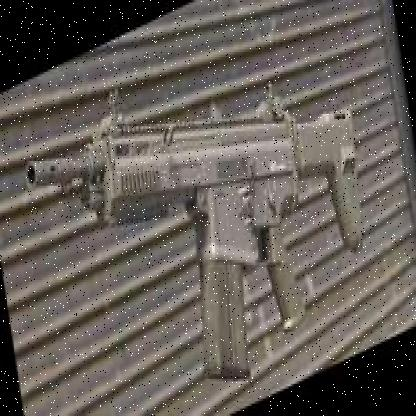rifle: (20, 0, 390, 416)
